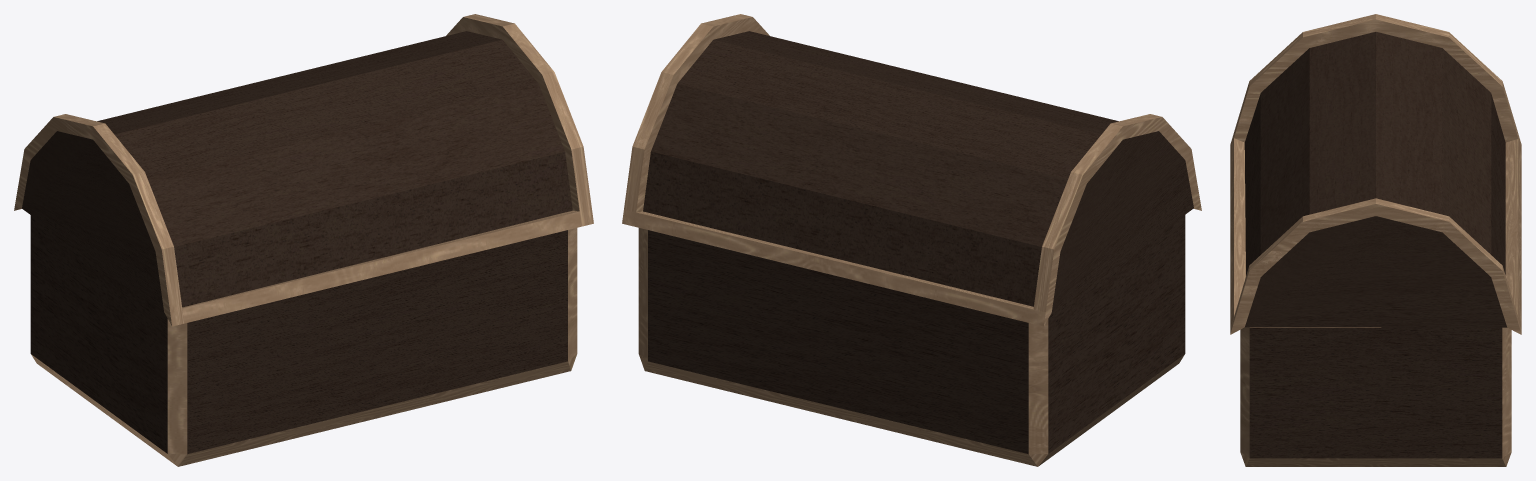
Rendered from chest.fbx.
3 views of the same model, side by side, from view 1: azimuth 30°, elevation 25°; view 2: azimuth 150°, elevation 25°; view 3: azimuth 270°, elevation 25° (orthographic). The views are drawn at different scales.
Visible parts, largest first — view 1: Lid, Box; view 2: Lid, Box; view 3: Lid, Box.
Boxes of the visible parts, bbox=[...] form: Lid: bbox=[14, 14, 593, 326]; Box: bbox=[30, 215, 577, 466]; Lid: bbox=[622, 14, 1201, 326]; Box: bbox=[638, 215, 1185, 466]; Lid: bbox=[1230, 14, 1521, 334]; Box: bbox=[1240, 327, 1511, 466].
Bounding box in the file's own units: 165 × 109 × 107.
